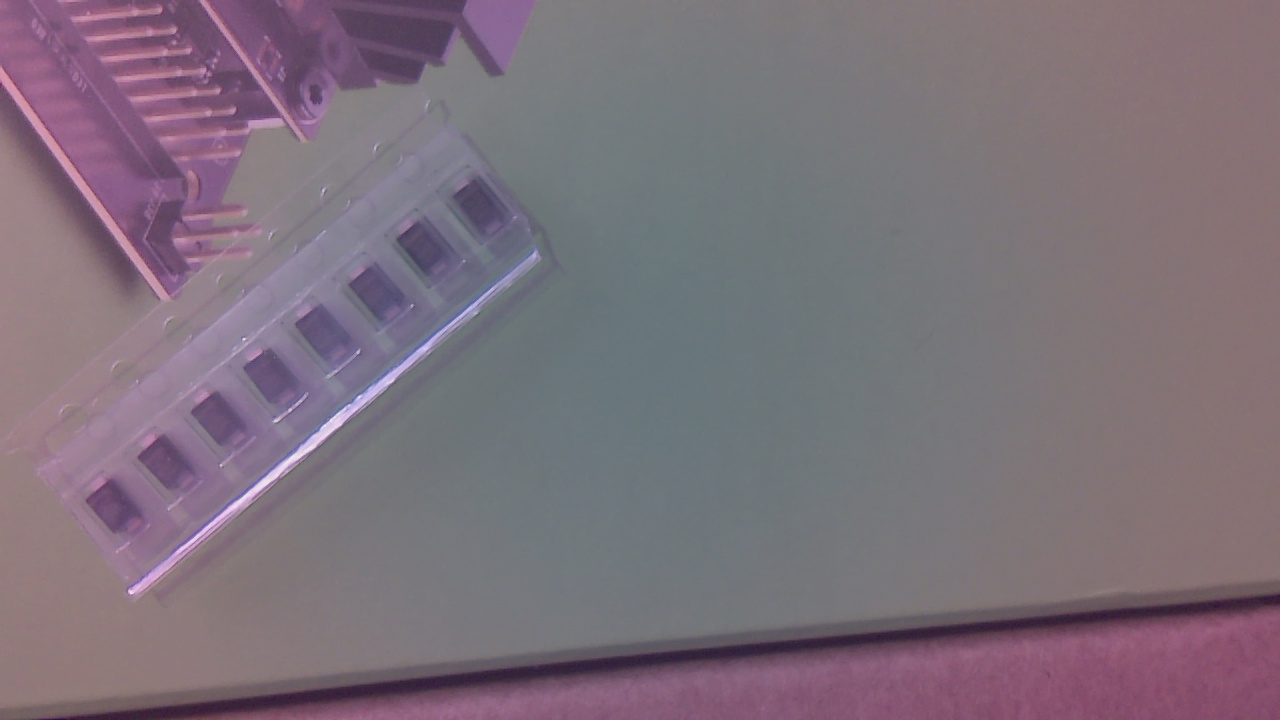Diode: (87, 479, 152, 546), (141, 435, 201, 503), (192, 393, 255, 456), (244, 351, 307, 414), (396, 222, 459, 285), (297, 304, 357, 368), (350, 268, 412, 329), (453, 183, 512, 244)
